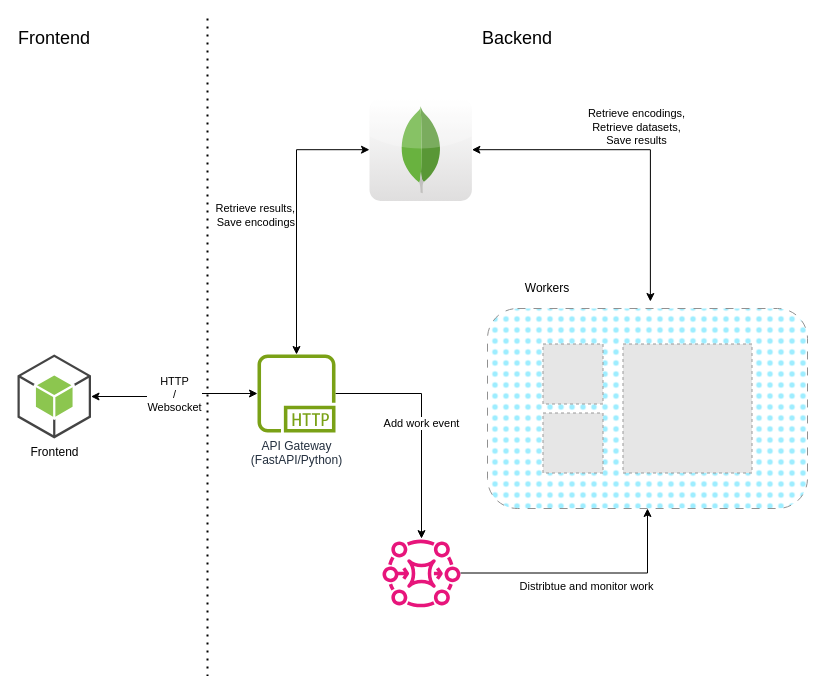
Some shapes in this 825 by 695 pixel diagram are drawn without their labels. Grey dashed boxes stand in for pictures. The centre of each missing label's shape, as x and y in pixels:
"Database" belongs at pixel 420 149.
"Message broker" belongs at pixel 421 572.
